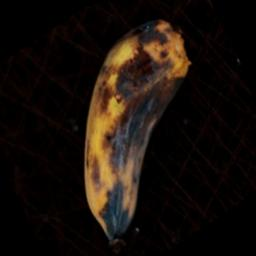Banana Rotten: (33, 0, 230, 256)
